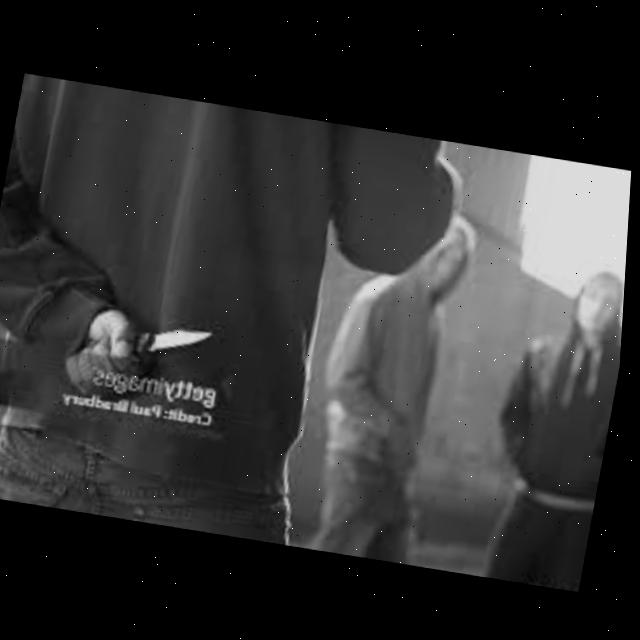knife: (0, 71, 473, 560), (305, 182, 508, 567), (467, 244, 629, 588), (67, 306, 162, 404), (140, 317, 218, 360)
